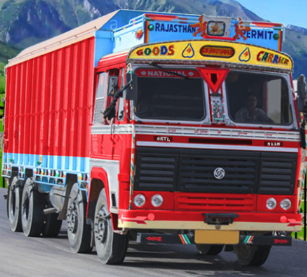truck: (1, 8, 301, 268)
